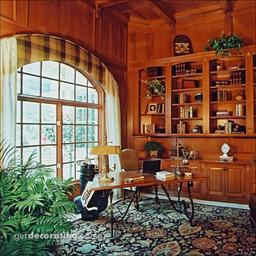Matera: (5, 168, 65, 255)
Otro Obstaculo: (77, 162, 110, 221)
Ventana: (11, 68, 107, 213)
